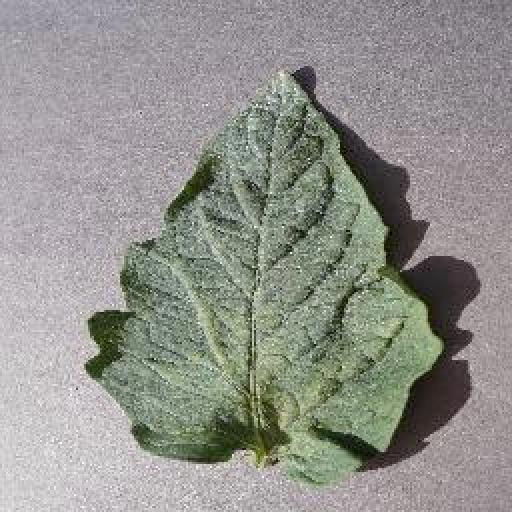disease_tomato: (83, 66, 441, 488)
